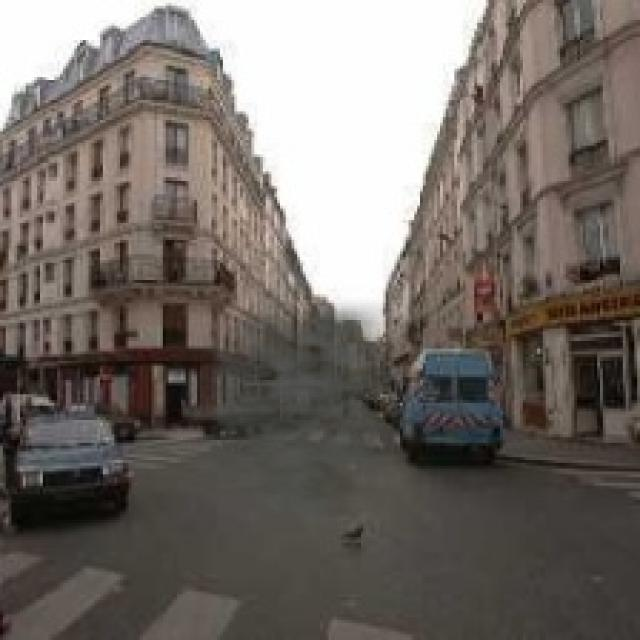smoke: (171, 294, 406, 517)
